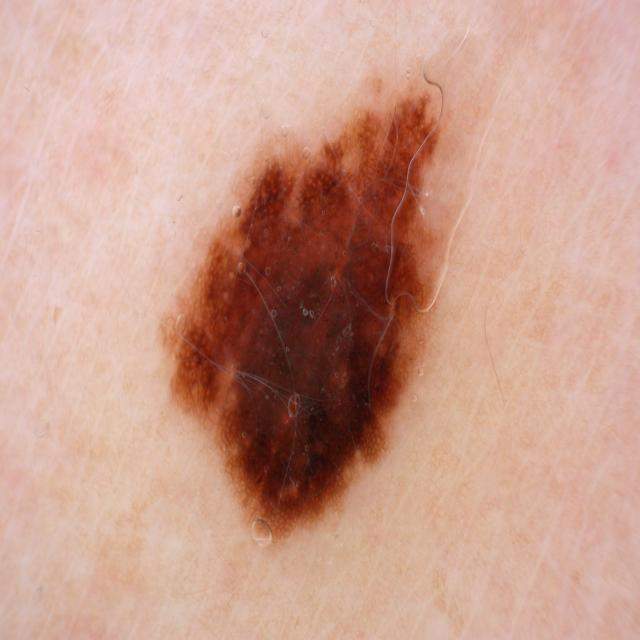Benign: (158, 79, 462, 542)
